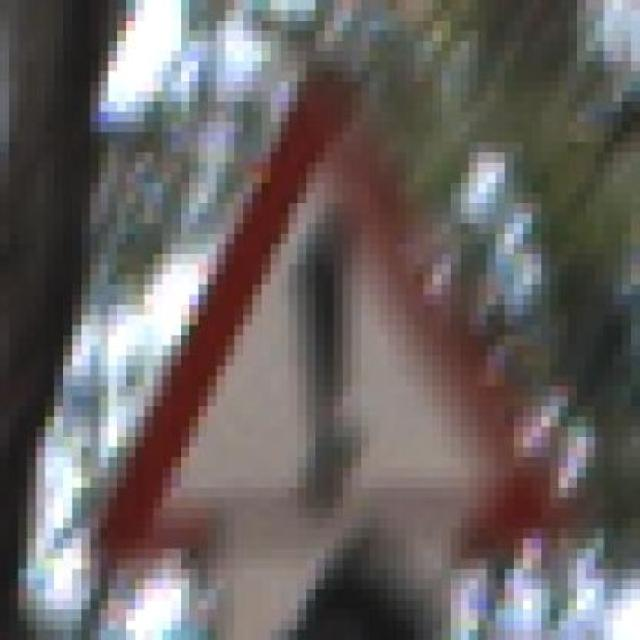Attention Please-: (82, 61, 586, 590)
